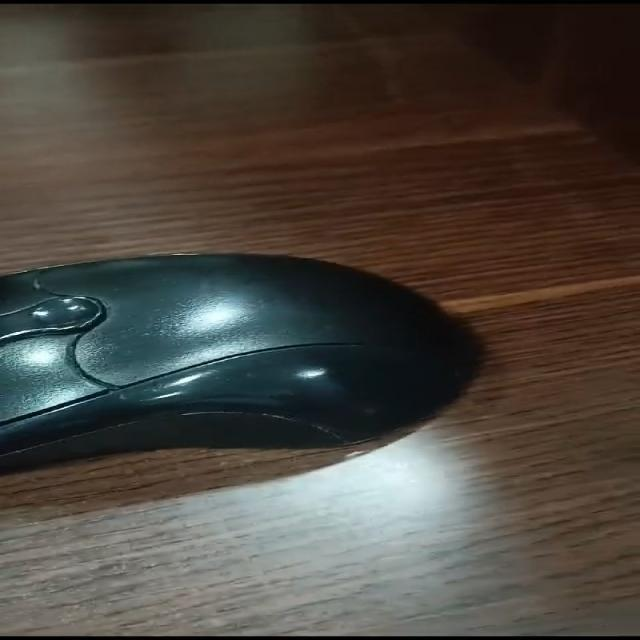Mouse: (0, 255, 476, 476)
